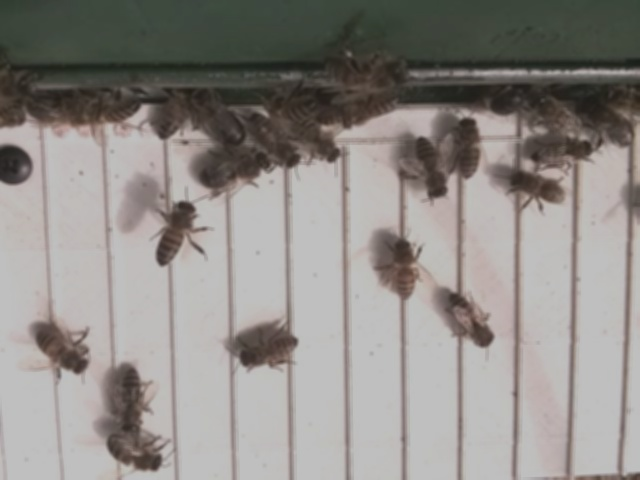Drone: (191, 88, 250, 153), (195, 149, 274, 194)
Worker: (447, 291, 497, 354), (154, 199, 199, 269), (250, 112, 303, 171), (34, 327, 92, 379), (106, 432, 166, 476), (414, 135, 452, 204), (238, 334, 301, 370), (508, 172, 569, 209), (301, 116, 342, 168), (389, 234, 420, 302), (528, 138, 595, 168), (117, 365, 145, 436), (454, 117, 483, 180)
